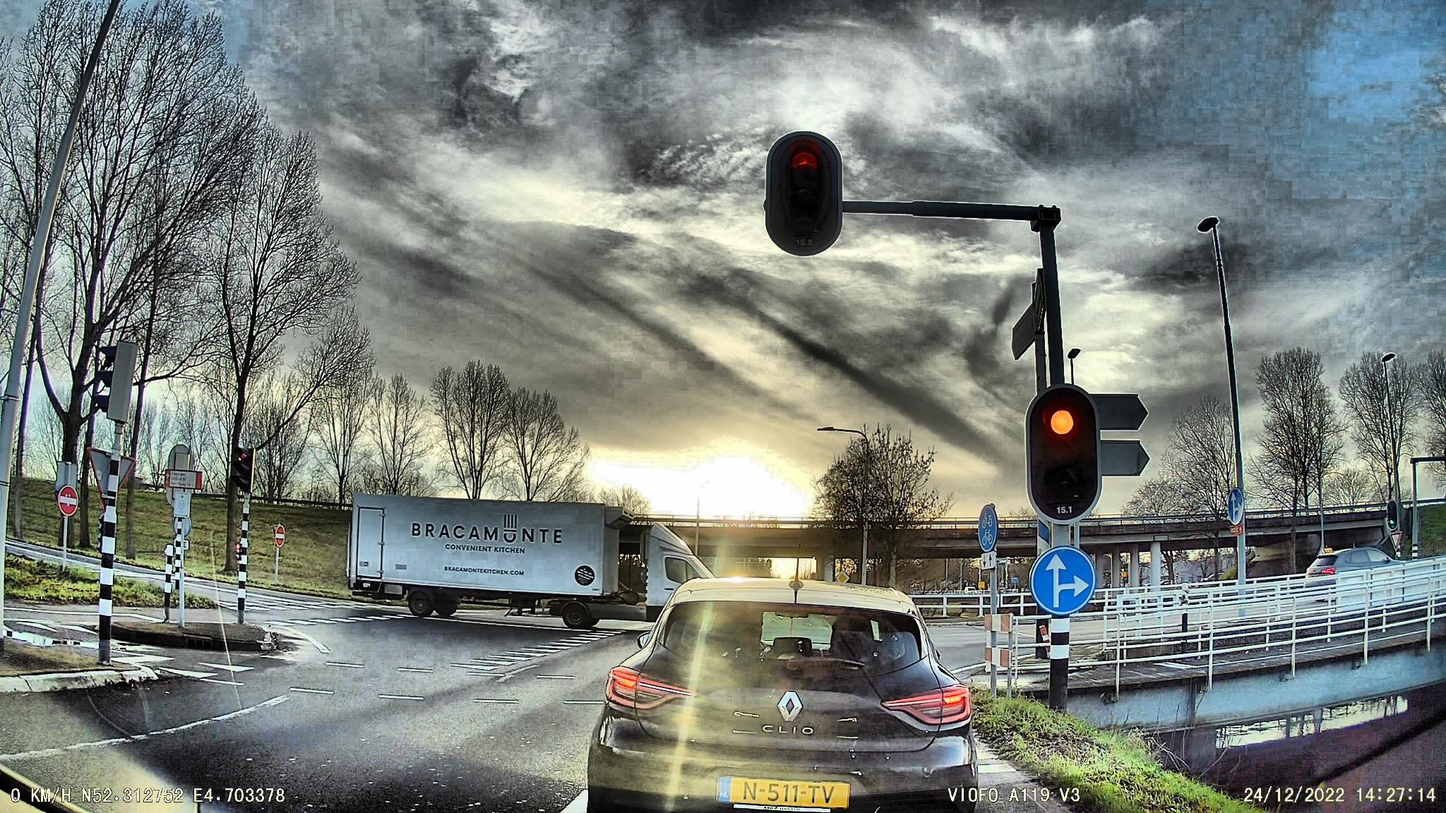Roads: (0, 590, 643, 813)
